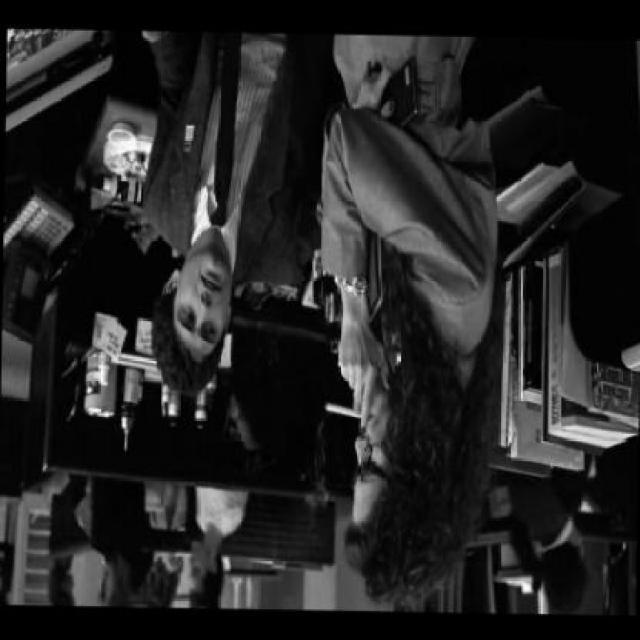smoke: (322, 398, 364, 417)
